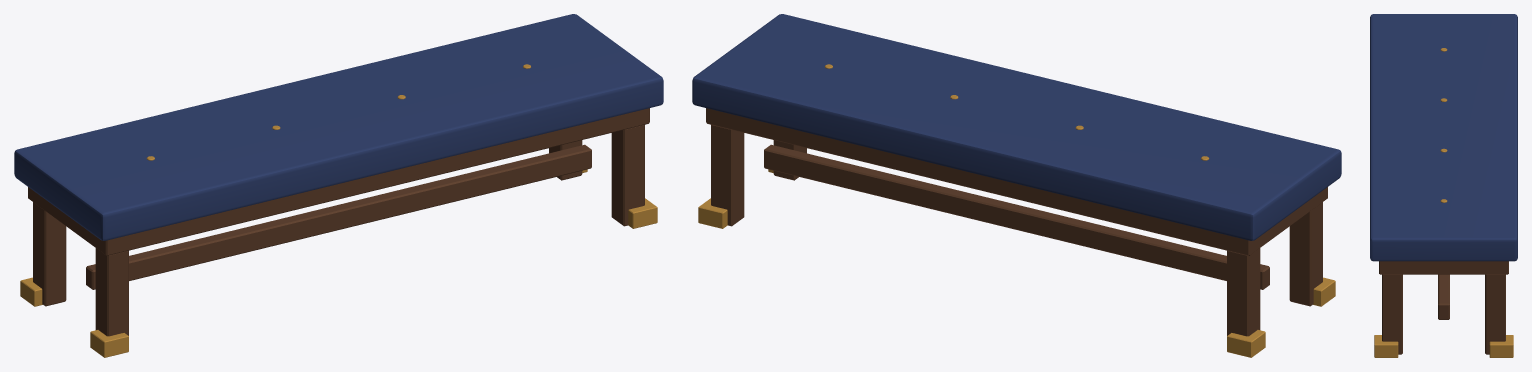
The model's file is prop_of_hall_bench.glb.
3 renders of one model, left to right at view 1: azimuth 30°, elevation 25°; view 2: azimuth 150°, elevation 25°; view 3: azimuth 270°, elevation 25°, orthographic. The views are drawn at different scales.
Visible parts, largest first — view 1: Bench; view 2: Bench; view 3: Bench.
Boxes of the visible parts, bbox=[...] form: Bench: bbox=[14, 14, 663, 357]; Bench: bbox=[692, 14, 1341, 357]; Bench: bbox=[1370, 14, 1517, 357].
Size of the model in its own units: 1.8 by 0.452 by 0.496.
